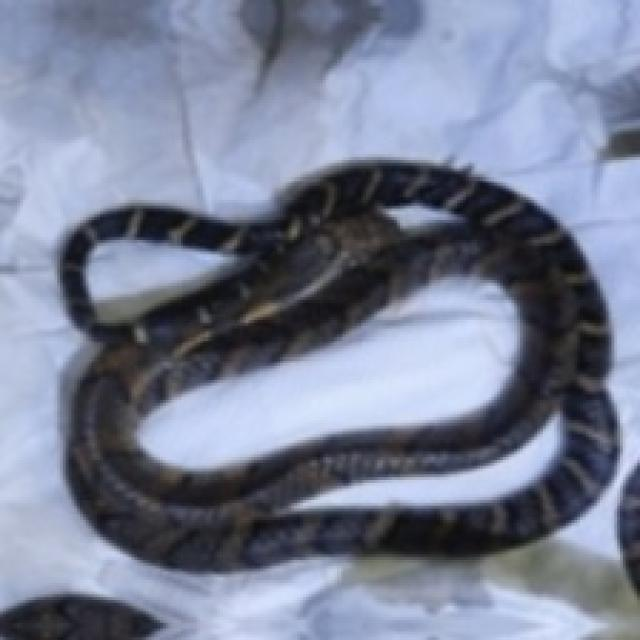king cobra: (60, 160, 617, 569)
